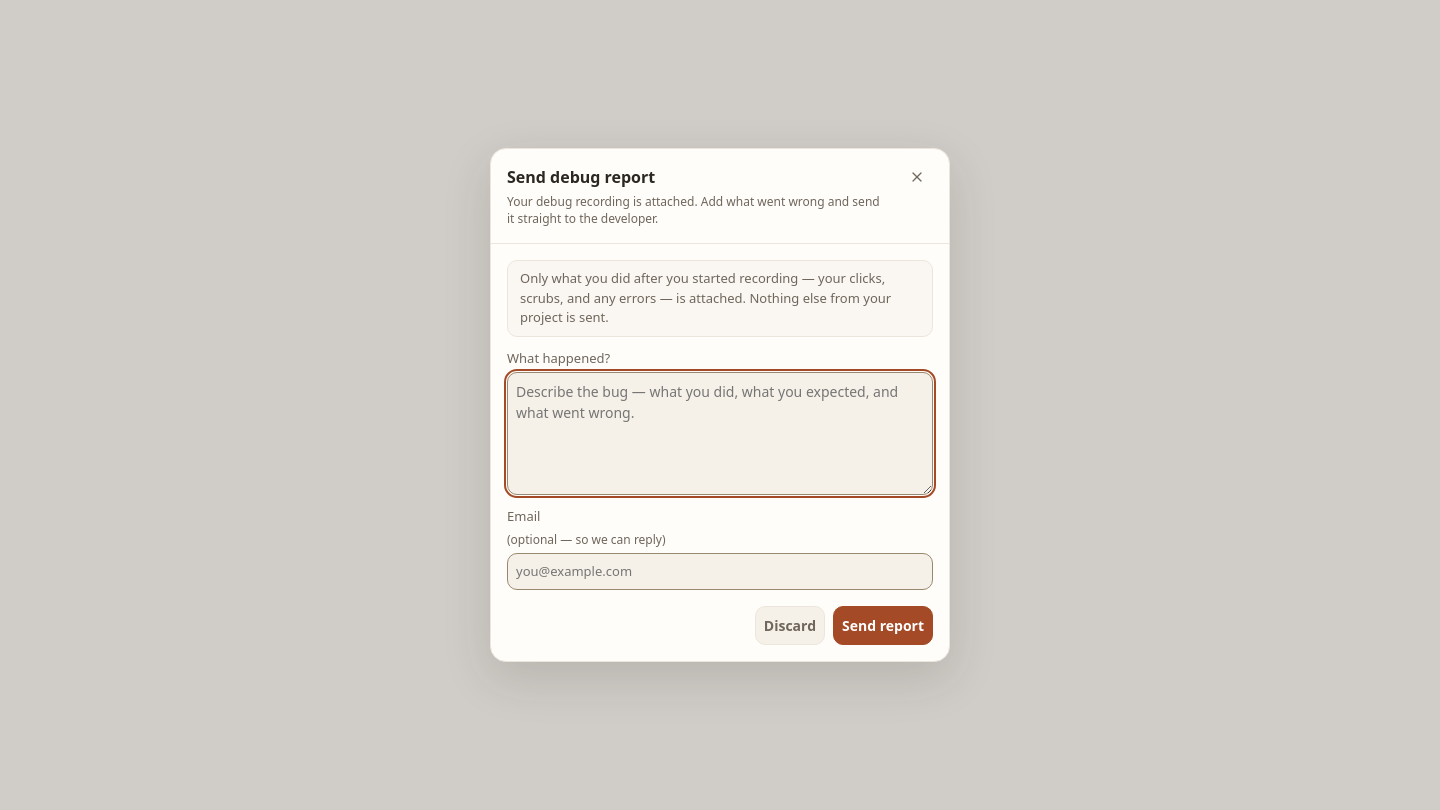
Scenario: DebugReportModal › discard is a two-step confirm — first click only prompts, second deletes
Click the button "Discard" at (790,626), box [755,606,825,645]
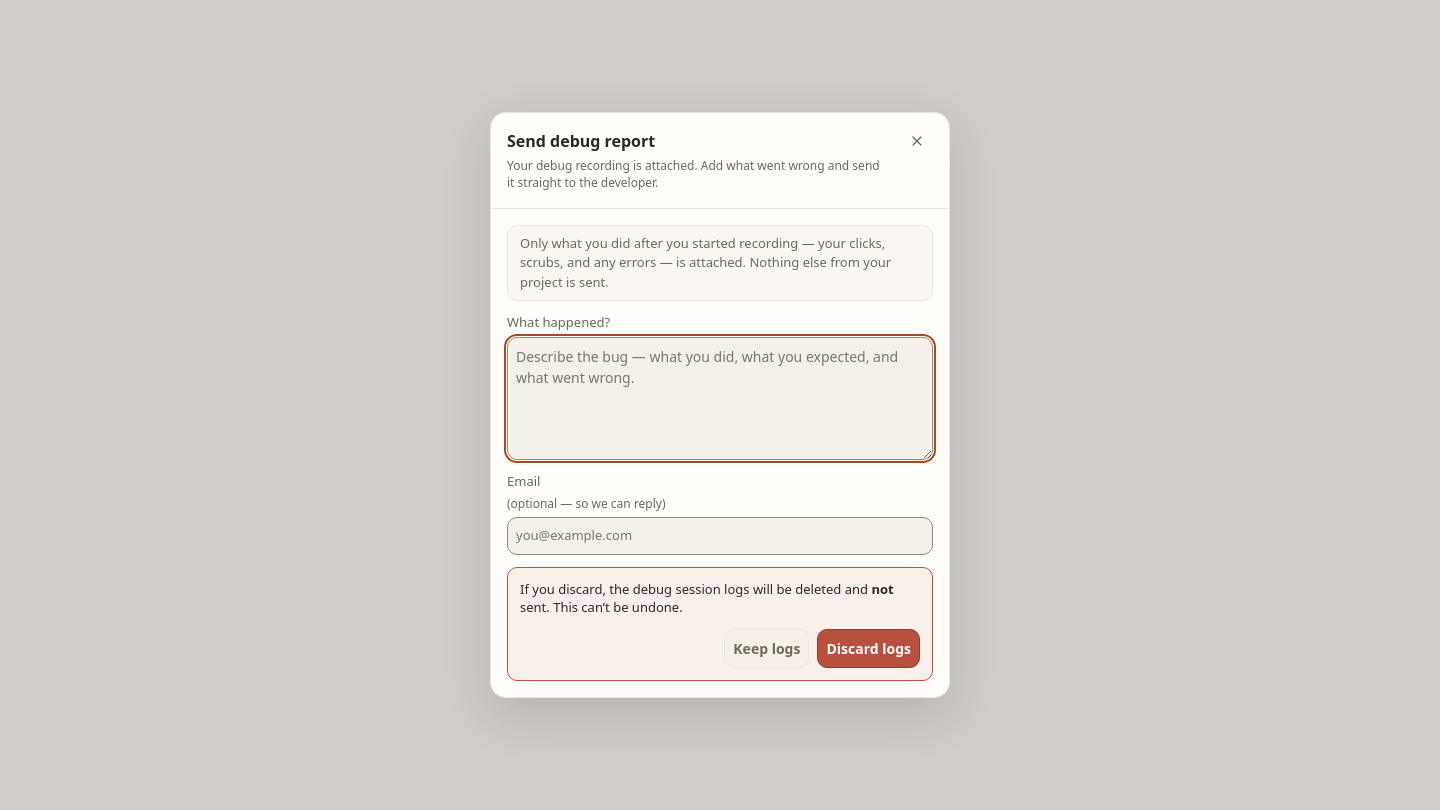
Result: the text "will be deleted" is shown at [520,580,871,598]
Click the button "Discard logs" at (869,649), box [817,629,920,668]
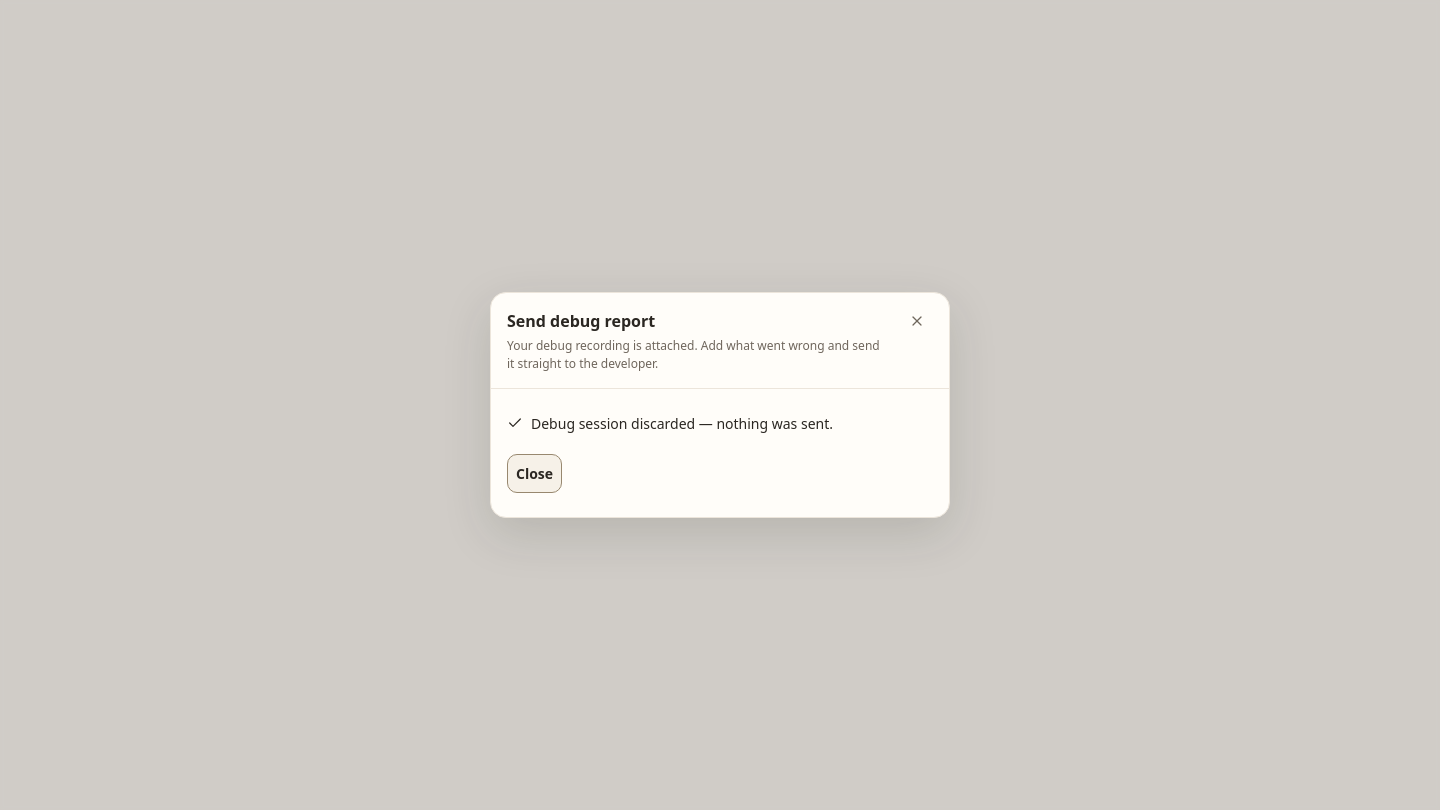
Result: the text "Debug session discarded — nothing was sent." is shown at [531,413,833,434]
